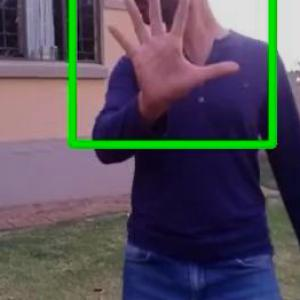follow_hand: (102, 0, 244, 104)
